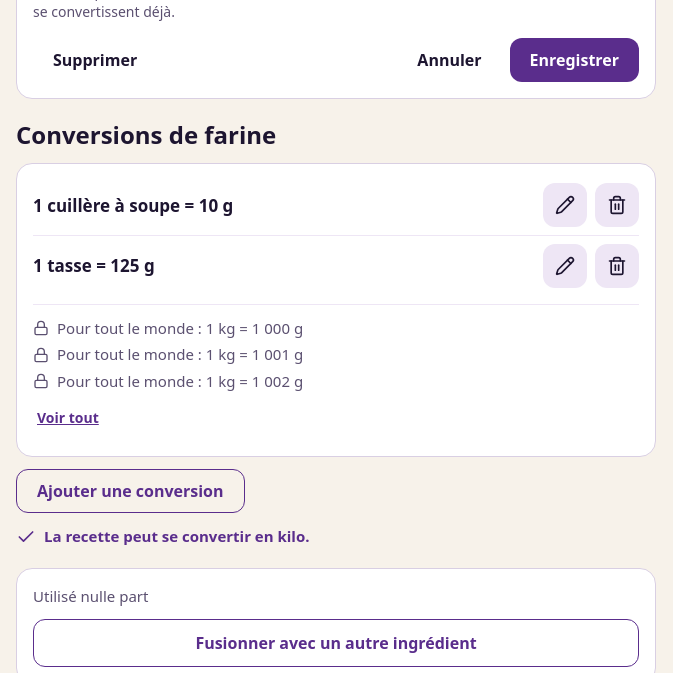
Conversions de l’ingrédient › replie les conversions de tout le monde au-delà de trois
The image size is (673, 673).
(page scrolled)
Click the button "Voir tout". click: (68, 418)
box: 33,396 -> 103,440
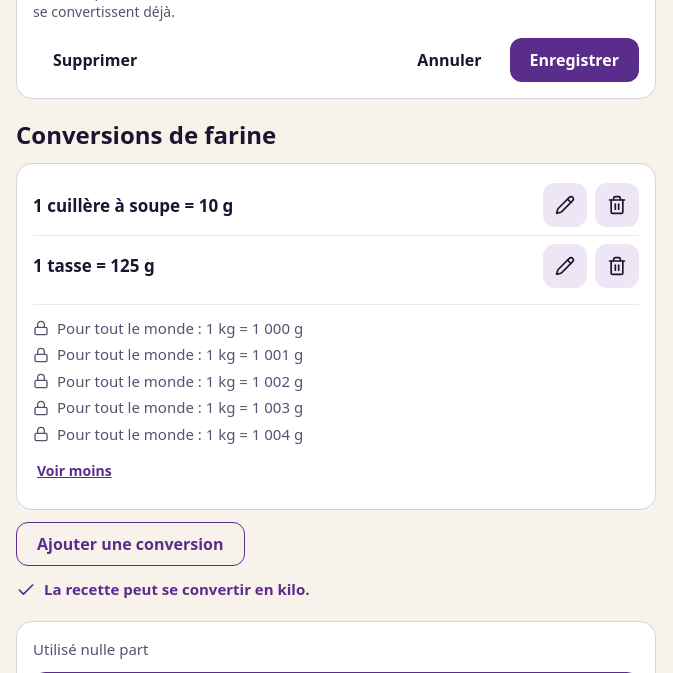
Expected: the button "Voir moins" is expanded, 33,449 -> 116,493
